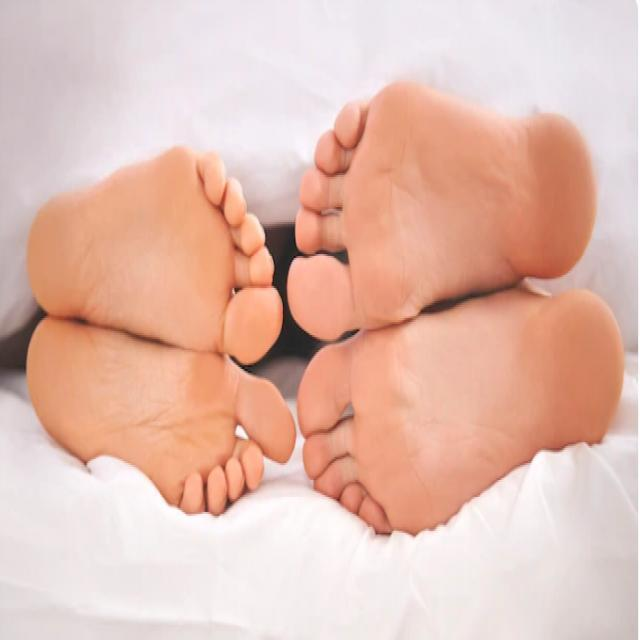Barefoots: (296, 298, 630, 544), (290, 82, 600, 344), (20, 314, 298, 528), (29, 136, 288, 364)
